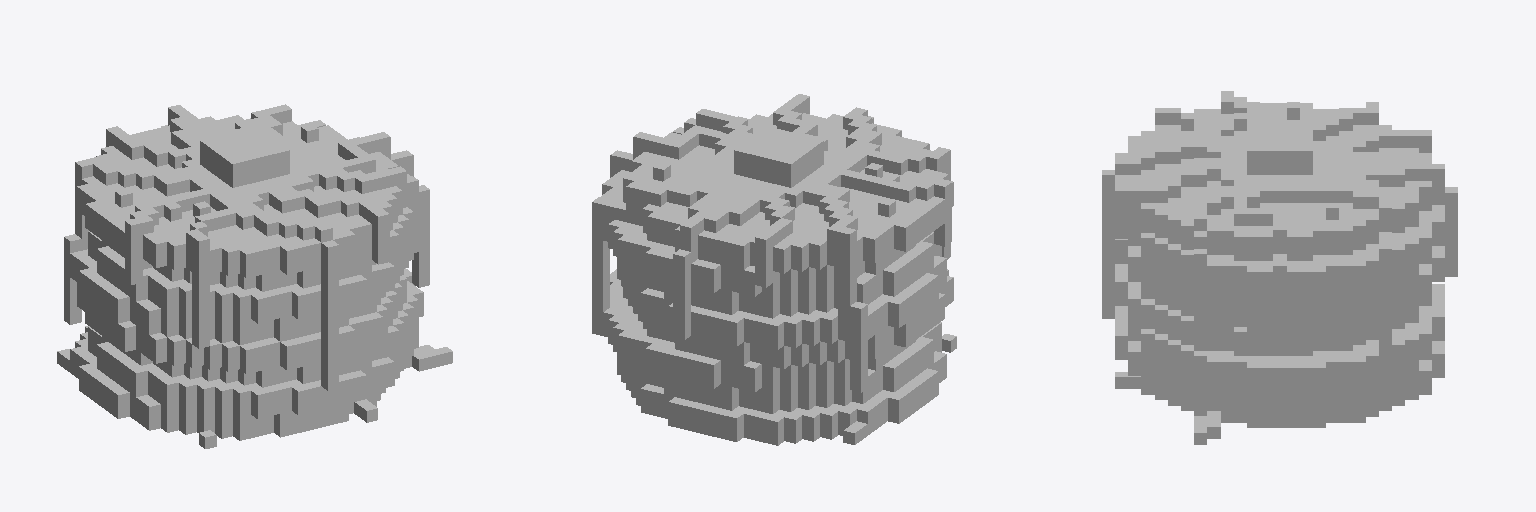
Rendered from Pancakes.obj.
The picture shows the model from 3 angles: view 1: azimuth 30°, elevation 25°; view 2: azimuth 150°, elevation 25°; view 3: azimuth 270°, elevation 25°; orthographic projection.
Parts seen in each view (by area): view 1: object 1; view 2: object 1; view 3: object 1.
Part boxes in pixels (x1,y1,x2,y2): object 1: (57,104,452,448); object 1: (592,94,956,445); object 1: (1102,91,1457,444).
Size of the model in its own units: 2.7 by 1.9 by 2.7.